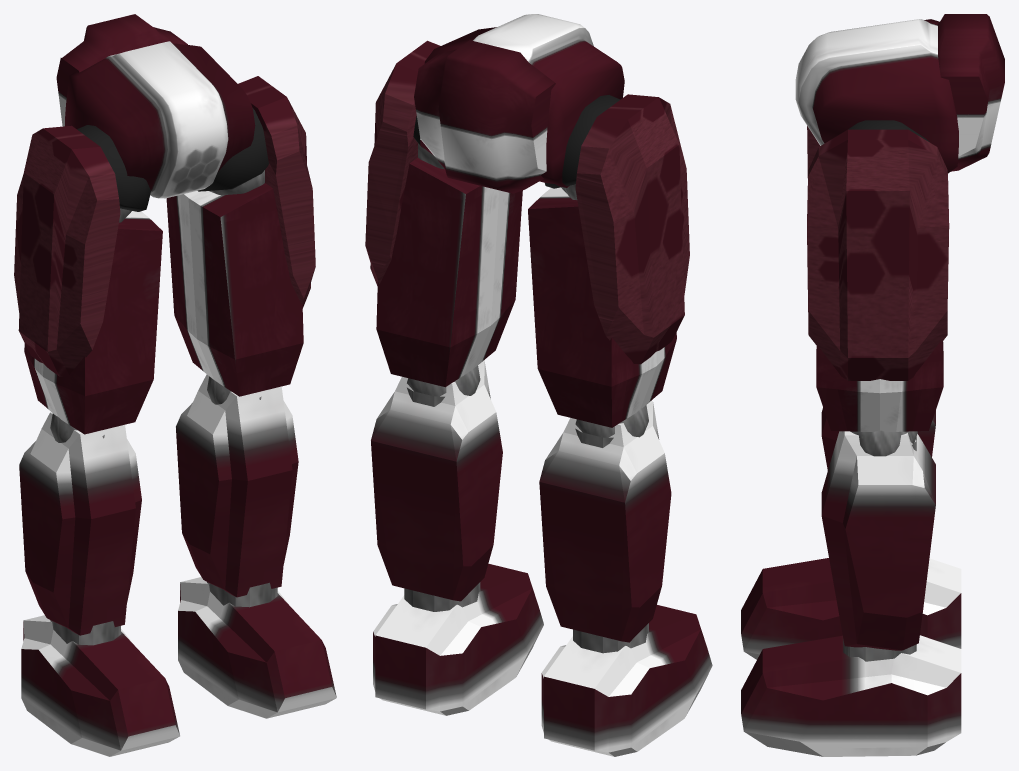
File: Robot 8 legs.fbx
The picture shows the model from 3 angles, left to right: view 1: azimuth 30°, elevation 25°; view 2: azimuth 150°, elevation 25°; view 3: azimuth 270°, elevation 25°; orthographic projection. The views are drawn at different scales.
Parts seen in each view (by area): view 1: Icosphere, Icosphere.001, Cube.020, Icosphere.003, Icosphere.002, Cube.023, Cube.012; view 2: Icosphere, Icosphere.001, Cube.020, Icosphere.003, Icosphere.002, Cube.023, Cube.012; view 3: Icosphere.001, Cube.020, Cube.012, Icosphere.002, Cube.023, Icosphere.003.
Boxes of the visible parts, x1,y1,x2,y2 form: Icosphere: (14, 125, 162, 434); Icosphere.001: (166, 76, 315, 396); Cube.020: (56, 14, 268, 211); Icosphere.003: (19, 412, 141, 645); Icosphere.002: (176, 374, 298, 607); Cube.023: (21, 615, 179, 756); Cube.012: (178, 577, 336, 718); Icosphere: (528, 94, 689, 427); Icosphere.001: (365, 40, 522, 387); Cube.020: (413, 14, 624, 193); Icosphere.003: (539, 401, 671, 653); Icosphere.002: (371, 360, 502, 611); Cube.023: (541, 605, 712, 756); Cube.012: (373, 563, 543, 715); Icosphere.001: (807, 129, 949, 431); Cube.020: (795, 14, 1004, 173); Cube.012: (741, 635, 961, 756); Icosphere.002: (821, 430, 935, 661); Cube.023: (741, 558, 961, 659); Icosphere.003: (821, 407, 935, 470).
Size of the model in its own units: 354 by 820 by 293.
